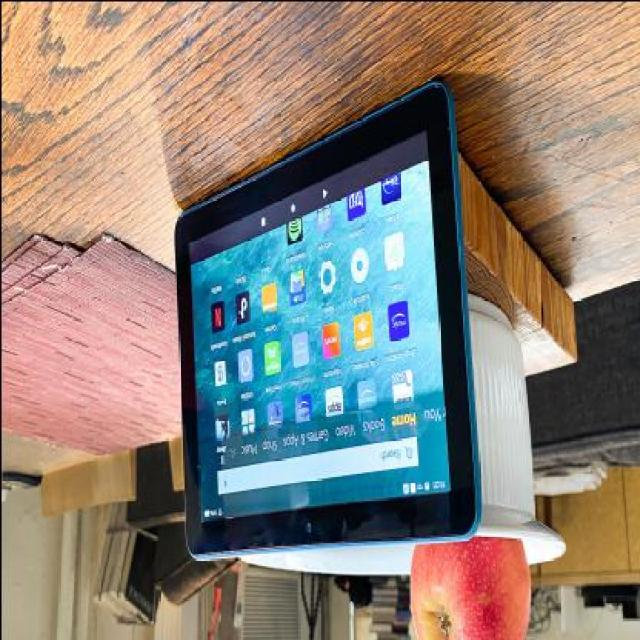tablet: (144, 48, 495, 593)
